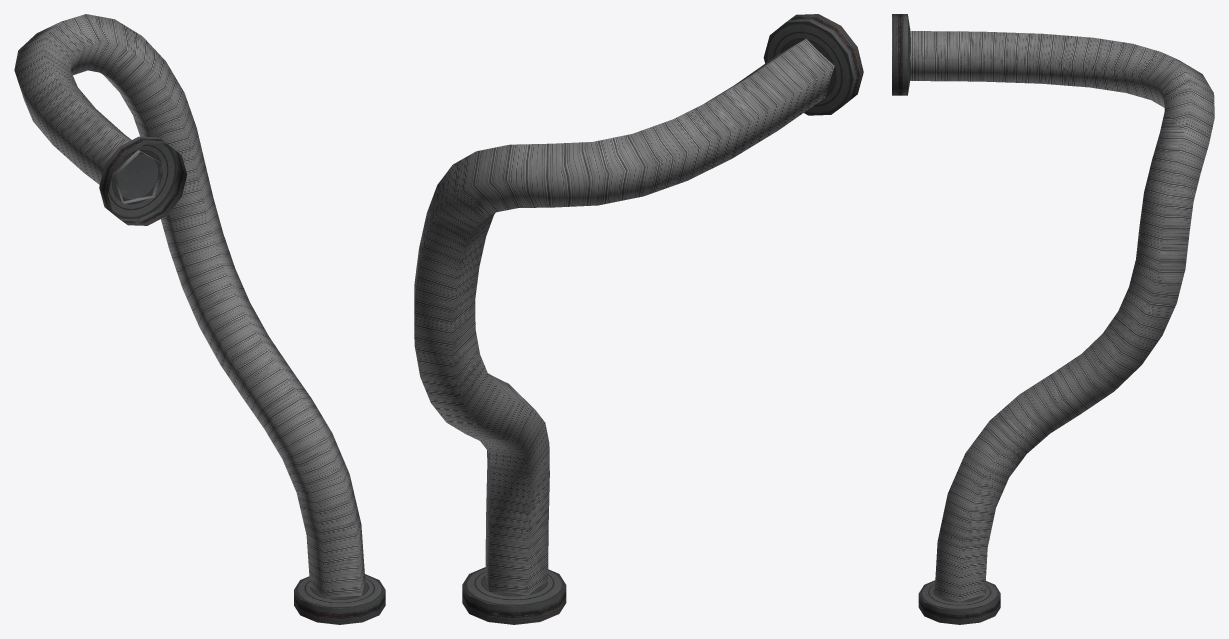
The model's file is ARC0910123.fbx.
3 views of the same model, side by side, from view 1: azimuth 30°, elevation 25°; view 2: azimuth 150°, elevation 25°; view 3: azimuth 270°, elevation 25° (orthographic). The views are drawn at different scales.
Visible parts, largest first — view 1: smARC0910123; view 2: smARC0910123; view 3: smARC0910123.
Part boxes in pixels (x1=…): smARC0910123: x1=14, y1=14, x2=385, y2=624; smARC0910123: x1=414, y1=14, x2=863, y2=624; smARC0910123: x1=892, y1=14, x2=1214, y2=624.
Bounding box in the file's own units: 229 × 386 × 231.
1 material, 1 textured.
